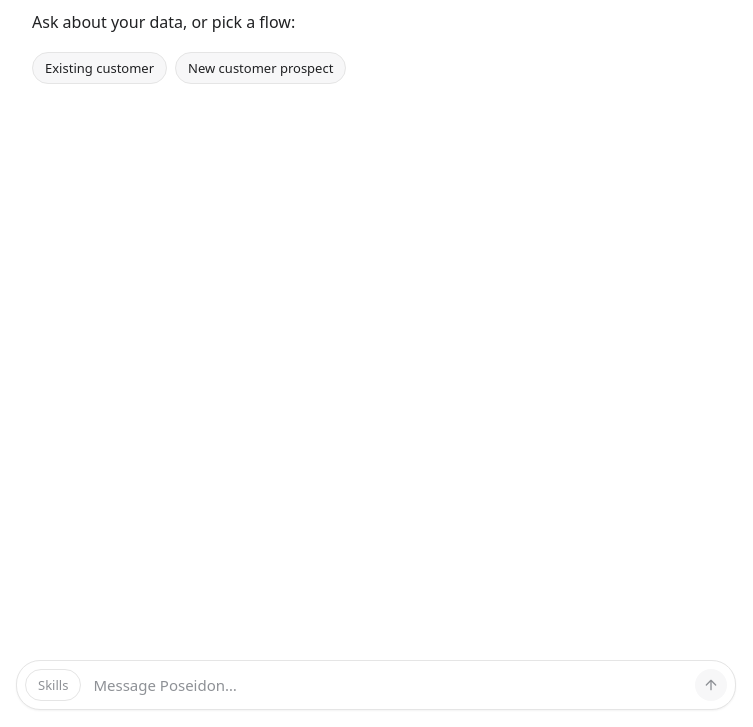
it: send → streamed answer with visible tool step
(page scrolled)
Type "top gp customers singapore" into the field with placeholder "Message Poseidon…" at (388, 685), box 89,661 -> 687,709
Then press Enter
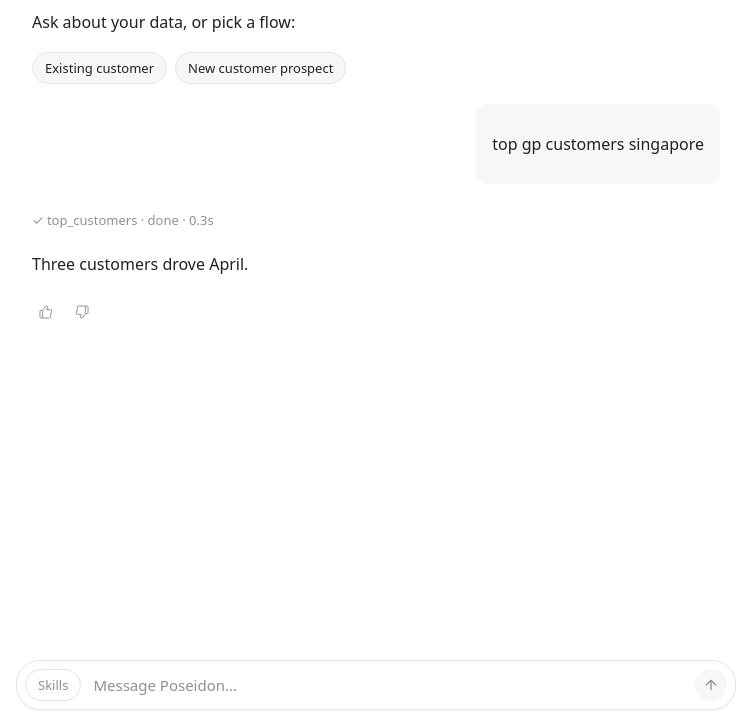
Now the text "✓ top_customers · done · 0.3s" is shown, box 32,211 -> 214,229
Now the text "Three customers drove April." is shown, box 32,252 -> 248,278
